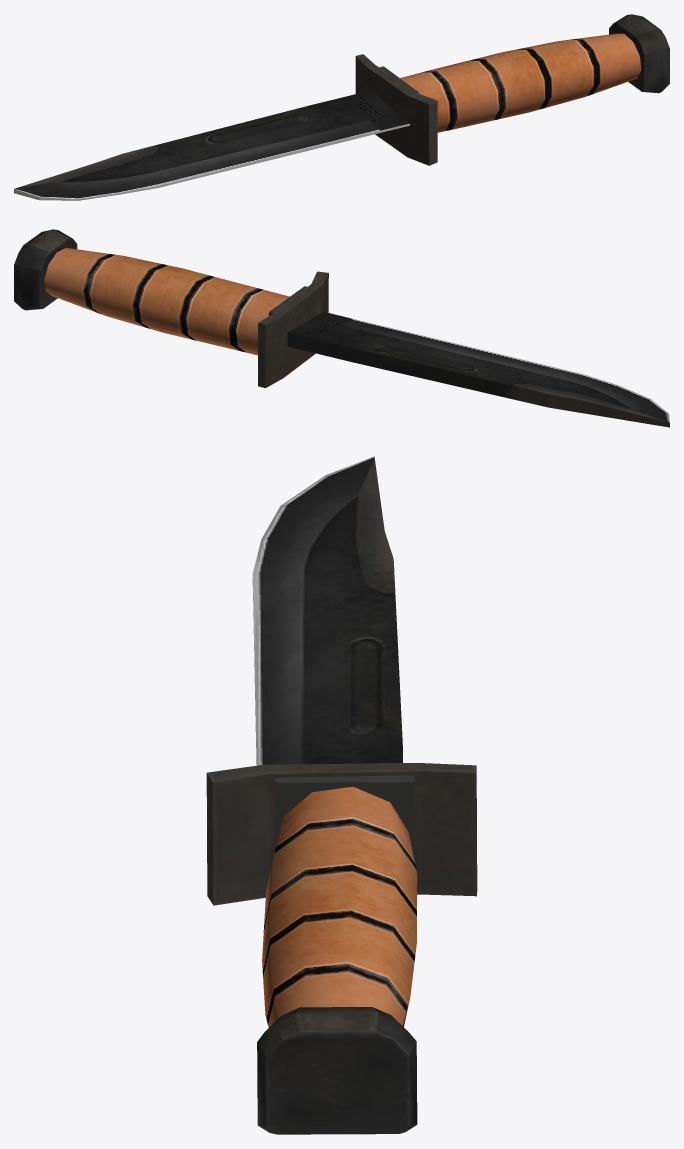
File: Knife.FBX
3 views of the same model, one above another, from view 1: azimuth 30°, elevation 25°; view 2: azimuth 150°, elevation 25°; view 3: azimuth 270°, elevation 25° (orthographic). The views are drawn at different scales.
Parts seen in each view (by area): view 1: Knife; view 2: Knife; view 3: Knife.
Part boxes in pixels (x1=…): Knife: x1=14, y1=14, x2=669, y2=200; Knife: x1=14, y1=229, x2=669, y2=427; Knife: x1=206, y1=456, x2=477, y2=1134.
Bounding box in the file's own units: 9.4 × 0.8898 × 1.75.
